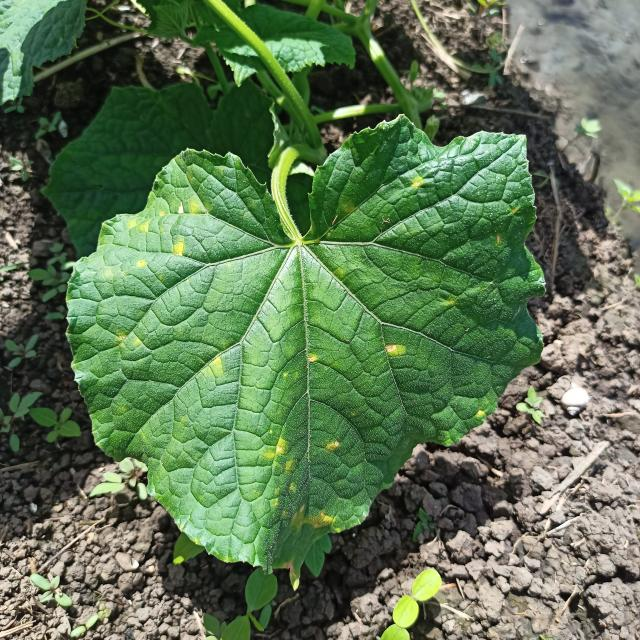disease_cucumber: (266, 434, 345, 530), (123, 199, 205, 271), (384, 343, 409, 359), (209, 354, 223, 376), (410, 178, 421, 191), (305, 354, 317, 365)
